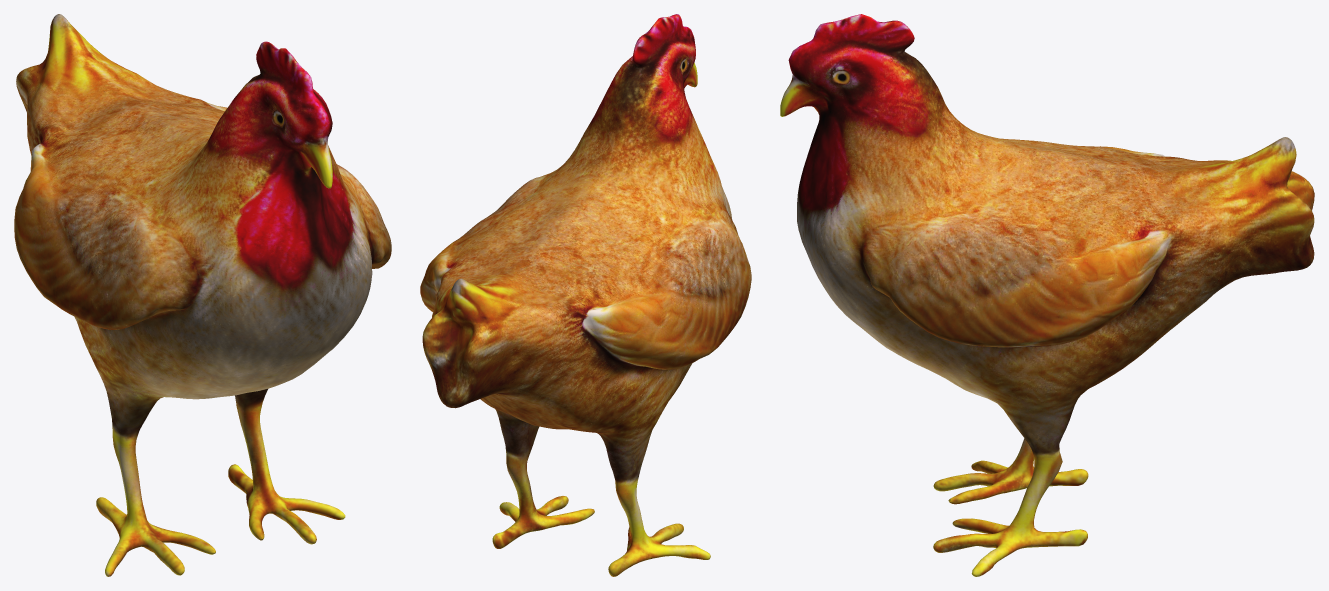
File: Chicken_Quad.obj
3 renders of one model, left to right at view 1: azimuth 30°, elevation 25°; view 2: azimuth 150°, elevation 25°; view 3: azimuth 270°, elevation 25°, orthographic. The views are drawn at different scales.
Parts seen in each view (by area): view 1: Chicken_Quad; view 2: Chicken_Quad; view 3: Chicken_Quad.
Part boxes in pixels (<box>): Chicken_Quad: <box>14,14,391,576</box>; Chicken_Quad: <box>420,14,751,576</box>; Chicken_Quad: <box>780,14,1314,576</box>.
Bounding box in the file's own units: 0.2801 × 0.4823 × 0.4581.
1 material, 1 textured.
